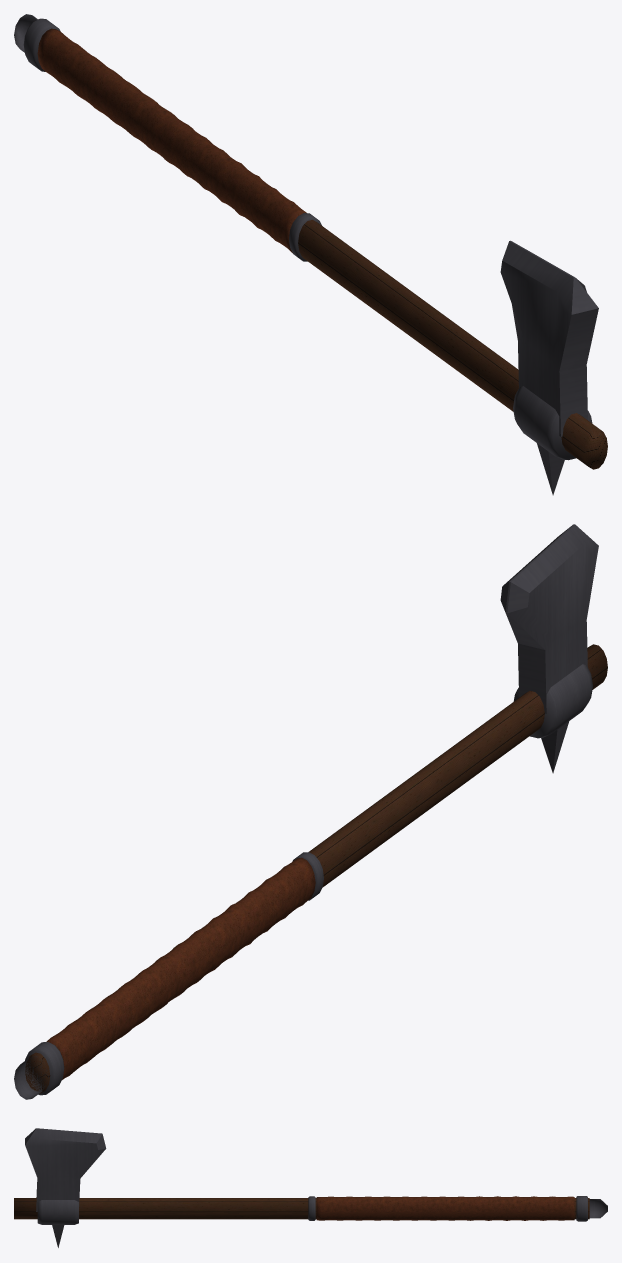
File: weapon_briar_hatchet.glb
The picture shows the model from 3 angles, top to bottom: view 1: azimuth 30°, elevation 25°; view 2: azimuth 150°, elevation 25°; view 3: azimuth 270°, elevation 25°; orthographic projection. The views are drawn at different scales.
Visible parts, largest first — view 1: briar_hatchet; view 2: briar_hatchet; view 3: briar_hatchet.
Boxes of the visible parts, bbox=[...] form: briar_hatchet: bbox=[14, 14, 607, 495]; briar_hatchet: bbox=[14, 524, 607, 1099]; briar_hatchet: bbox=[14, 1128, 607, 1247].
Size of the model in its own units: 0.0357 by 0.18 by 0.805.
3 materials, 3 textured.
